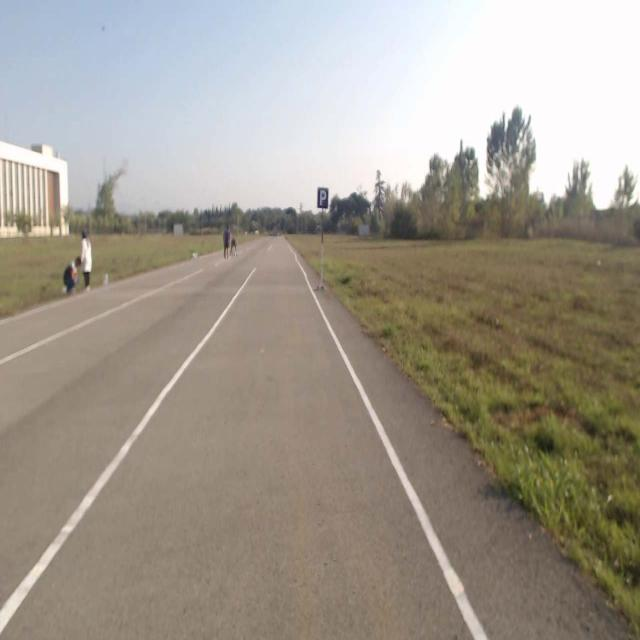park: (317, 187, 328, 208)
